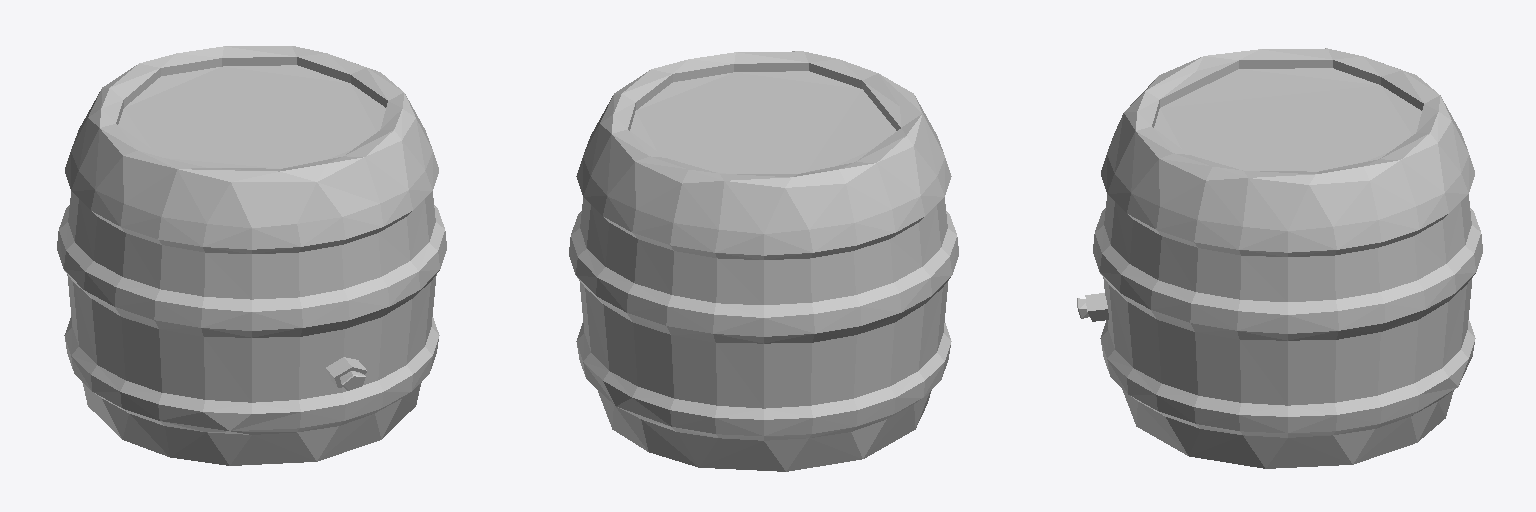
The model's file is kursi2.obj.
3 views of the same model, side by side, from view 1: azimuth 30°, elevation 25°; view 2: azimuth 150°, elevation 25°; view 3: azimuth 270°, elevation 25° (orthographic).
Parts seen in each view (by area): view 1: Barrel_01_Cylinder.004; view 2: Barrel_01_Cylinder.004; view 3: Barrel_01_Cylinder.004.
Part boxes in pixels (bbox=[...]): Barrel_01_Cylinder.004: bbox=[57, 46, 446, 465]; Barrel_01_Cylinder.004: bbox=[569, 51, 958, 471]; Barrel_01_Cylinder.004: bbox=[1077, 48, 1482, 468].
Bounding box in the file's own units: 2.62 × 2.15 × 2.74.